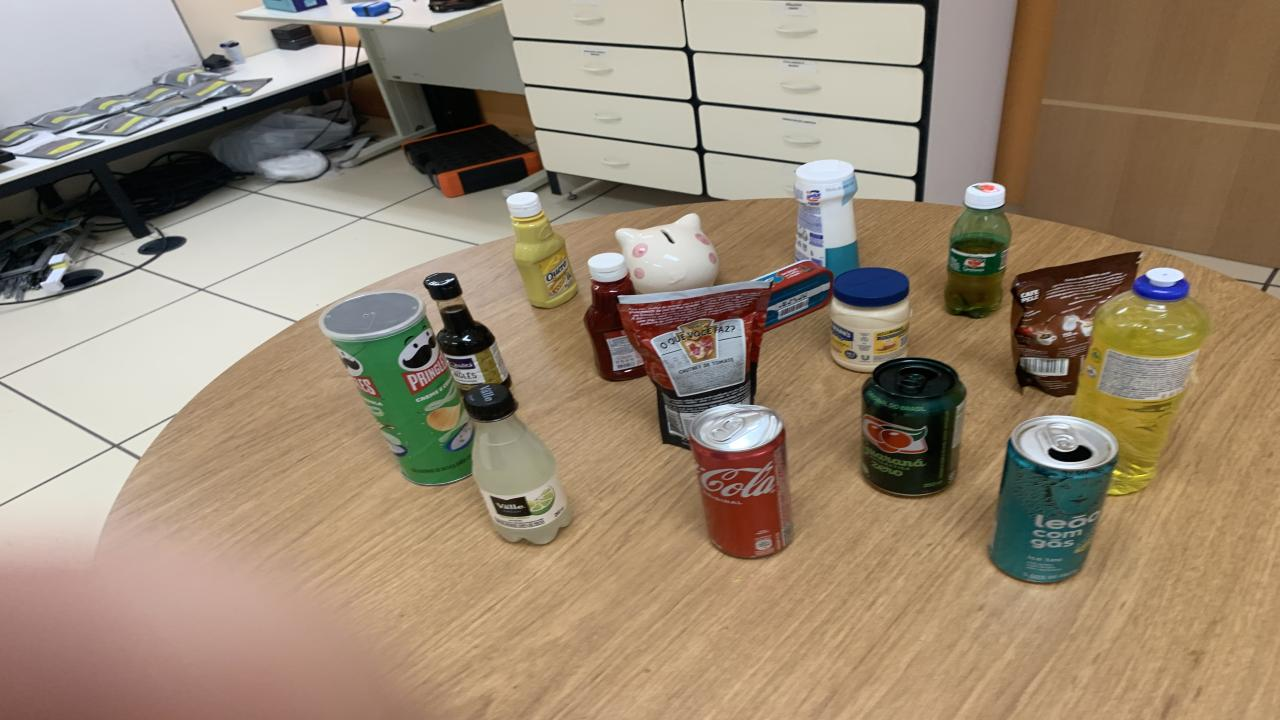Cleaner-Cleanup_Items: (795, 159, 860, 276)
Coffee-Pantry_Items: (1010, 251, 1140, 396)
Coke-Drinks: (690, 405, 792, 557)
Detergent-Cleanup_Items: (1072, 268, 1210, 495)
English_Sauce-Pantry_Items: (422, 272, 510, 392)
Guarana-Drinks: (945, 182, 1012, 317)
Guarana_Can-Drinks: (862, 358, 965, 497)
Ketchup-Pantry_Items: (585, 253, 645, 381)
Mayonnaise-Pantry_Items: (830, 268, 912, 373)
Mustard-Pantry_Items: (508, 191, 578, 308)
Pig_Safe-Miscellaneous: (615, 214, 718, 294)
Pringles-Snacks: (320, 291, 472, 484)
Soda-Drinks: (462, 384, 572, 544)
Tea-Drinks: (990, 416, 1118, 583)
Tomato_Sauce-Pantry_Items: (620, 281, 770, 448)
Tuna_Can-Pantry_Items: (755, 261, 832, 330)
